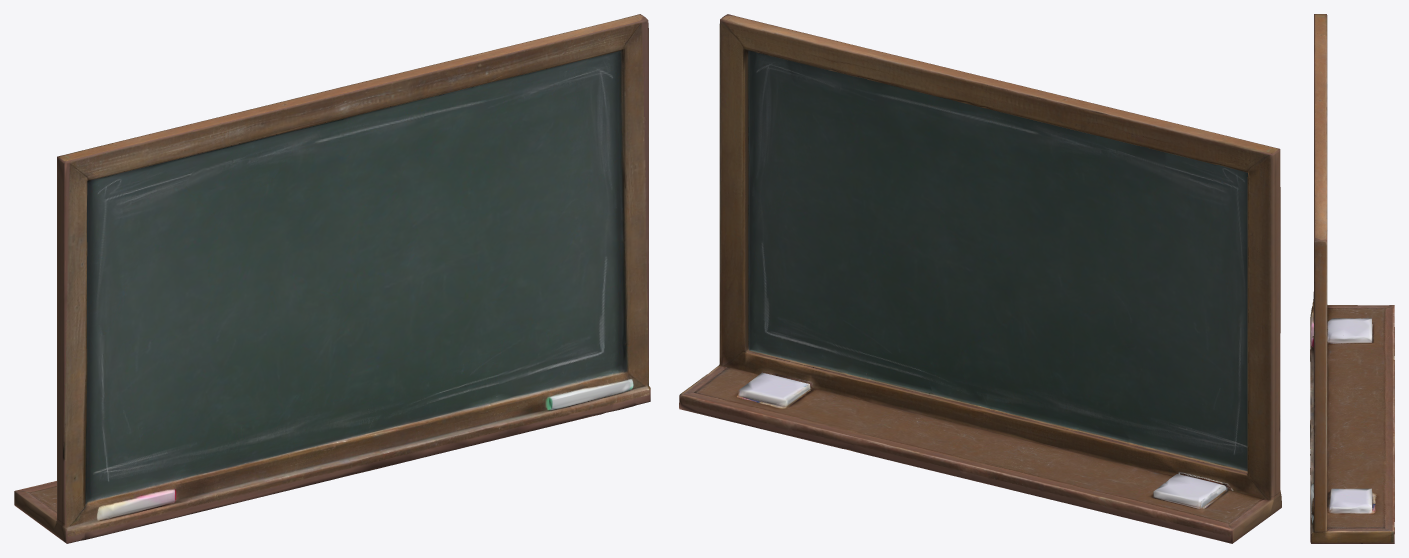
File: Meshy_Model_20250604_192724.glb
The picture shows the model from 3 angles, left to right: view 1: azimuth 30°, elevation 25°; view 2: azimuth 150°, elevation 25°; view 3: azimuth 270°, elevation 25°; orthographic projection. The views are drawn at different scales.
Bounding box in the file's own units: 2 × 1.25 × 0.3156.
1 material, 1 textured.
